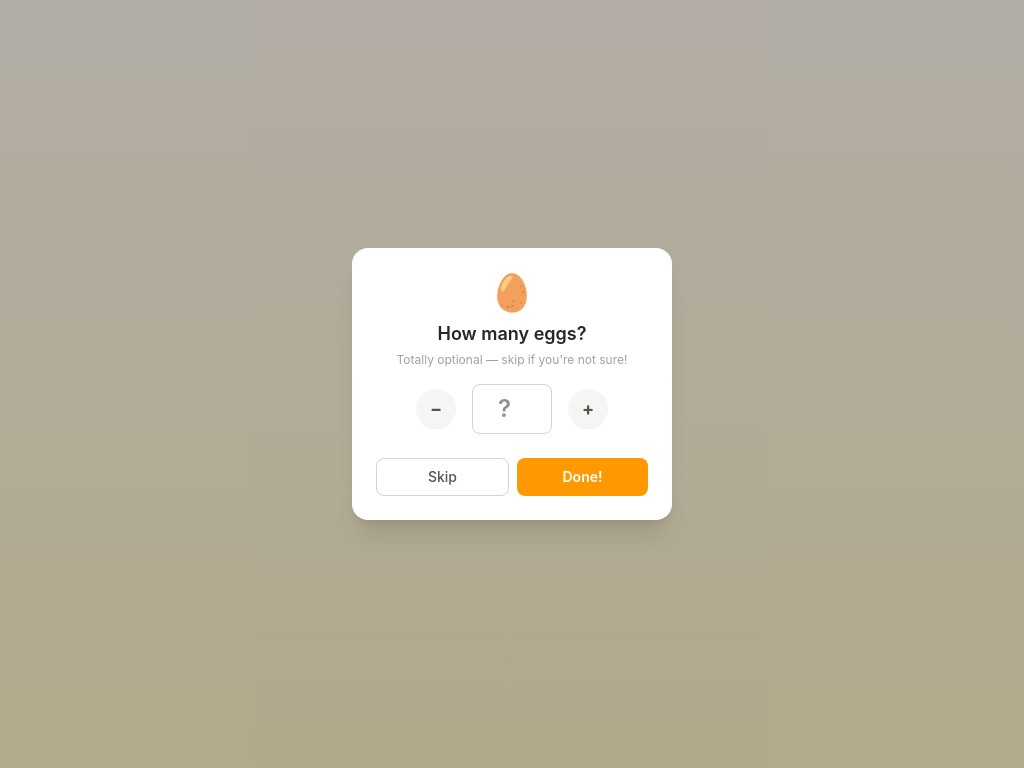
Test: CollectEggsDialog › increments and decrements the egg count, never going below zero
The image size is (1024, 768).
Click the button "−" at (436, 409), box [416,389,456,429]
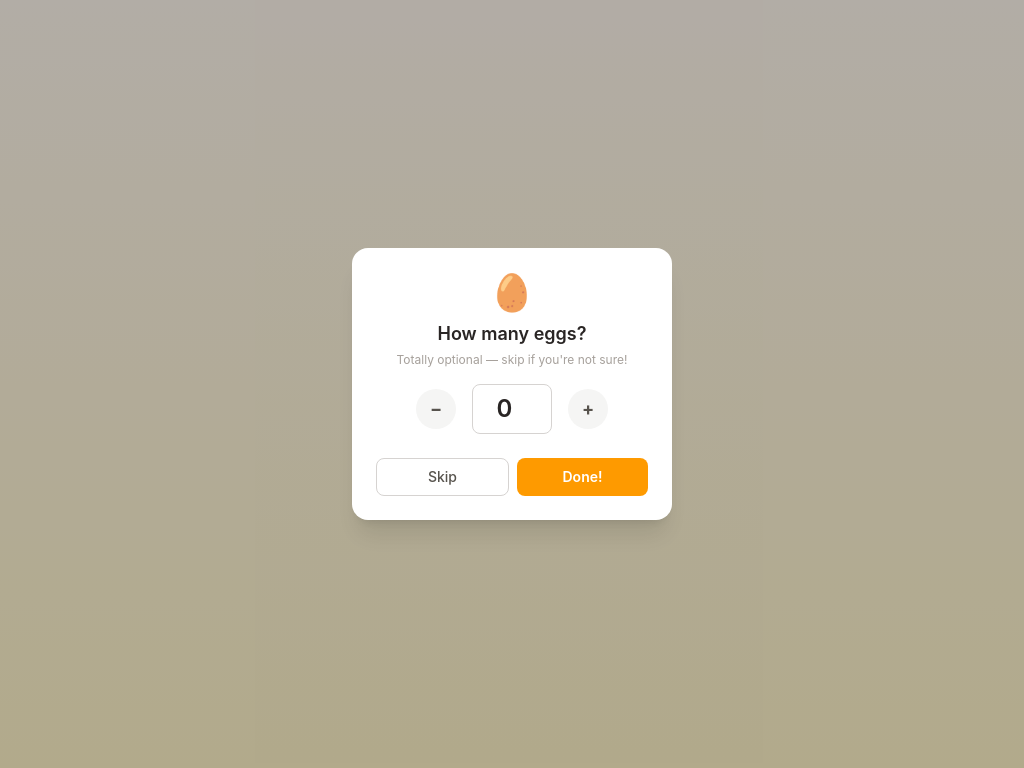
Expected: the number field holds "0", [472,384,552,434]
Click the button "+" at (588, 409), box [568,389,608,429]
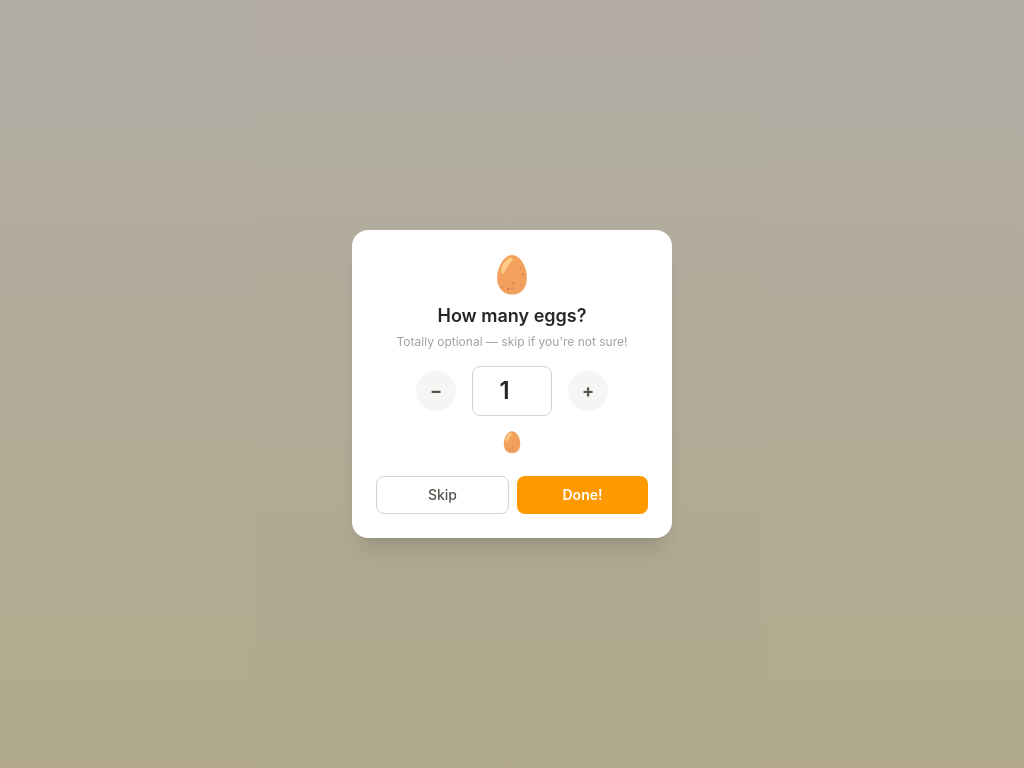
Click the button "+" at (588, 391), box [568,371,608,411]
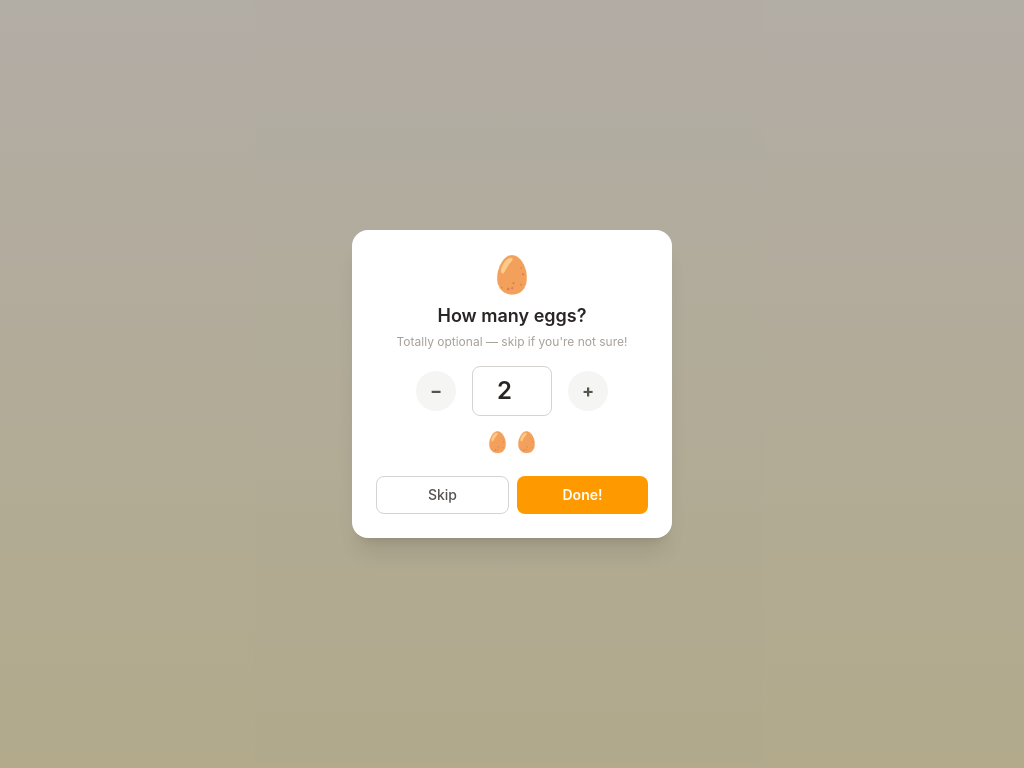
Expected: the number field holds "2", [472,366,552,416]
